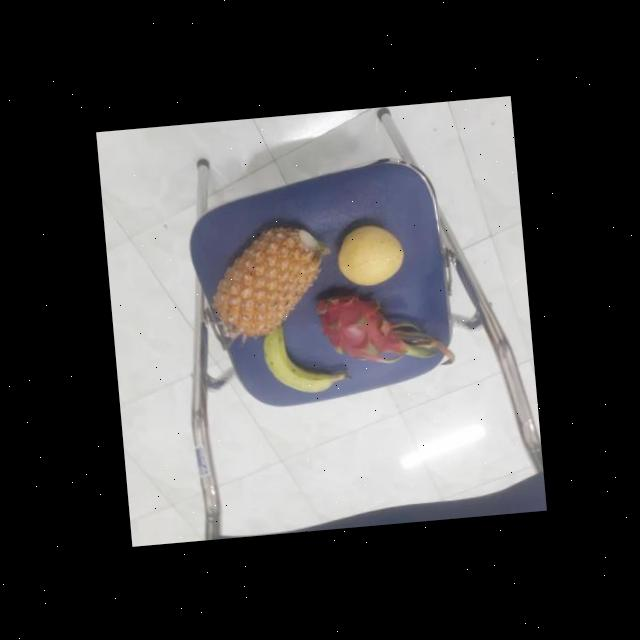banana: (251, 317, 342, 398)
pear: (329, 218, 406, 285)
pineapple: (204, 221, 328, 342)
pitaya: (311, 282, 413, 366)
